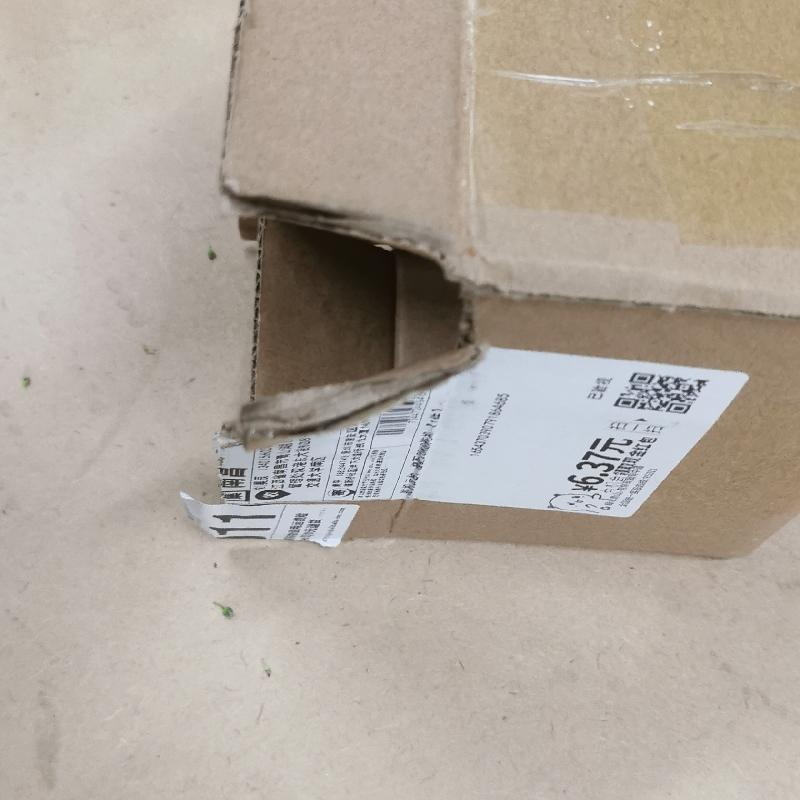boxes: (216, 1, 800, 562)
